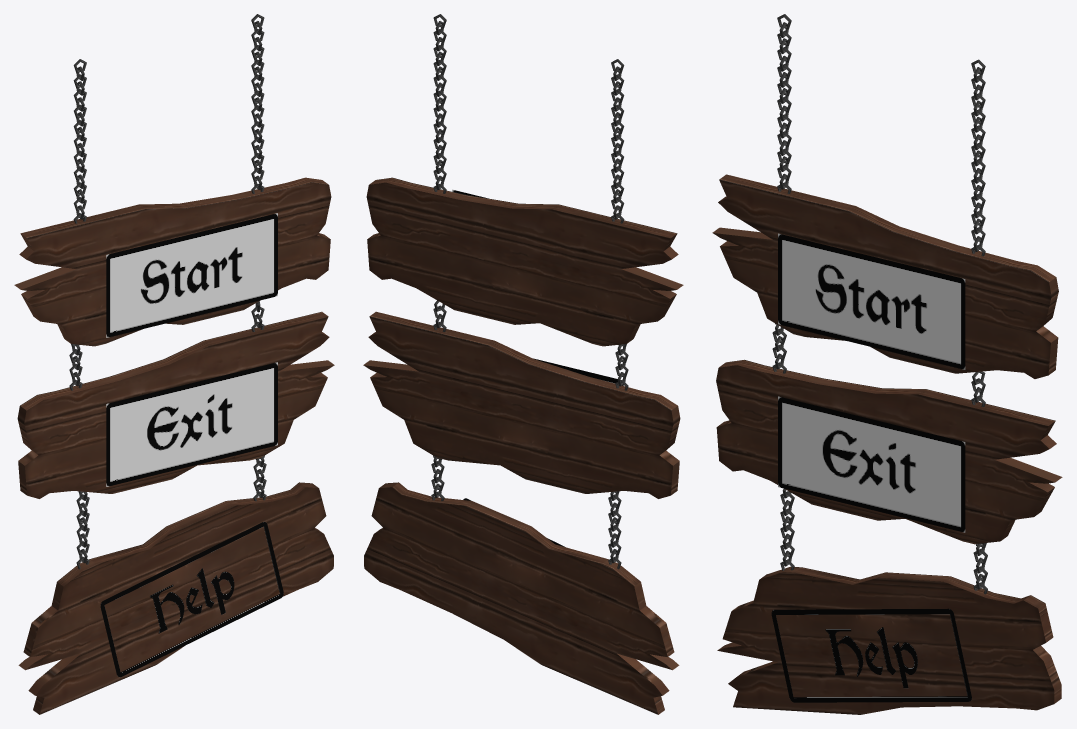
The model's file is Menu_Asset.fbx.
The picture shows the model from 3 angles, left to right: view 1: azimuth 30°, elevation 25°; view 2: azimuth 150°, elevation 25°; view 3: azimuth 330°, elevation 25°; orthographic projection. The views are drawn at different scales.
Visible parts, largest first — view 1: Plank1, Plank, Plank2, Exit, Start, Help; view 2: Plank1, Plank, Plank2; view 3: Plank1, Plank2, Plank, Start, Exit, Help.
Part boxes in pixels (<box>): Plank1: <box>18,482,333,714</box>; Plank: <box>17,311,334,498</box>; Plank2: <box>14,177,331,346</box>; Exit: <box>106,362,277,486</box>; Start: <box>106,213,277,337</box>; Help: <box>100,521,283,677</box>; Plank1: <box>364,482,679,714</box>; Plank: <box>363,311,680,498</box>; Plank2: <box>366,177,683,346</box>; Plank1: <box>717,566,1061,714</box>; Plank2: <box>712,174,1058,378</box>; Plank: <box>716,359,1062,544</box>; Start: <box>778,233,965,369</box>; Exit: <box>778,396,965,532</box>; Help: <box>771,608,971,702</box>.
Bounding box in the file's own units: 479 × 939 × 52.31.
4 materials, 4 textured.
